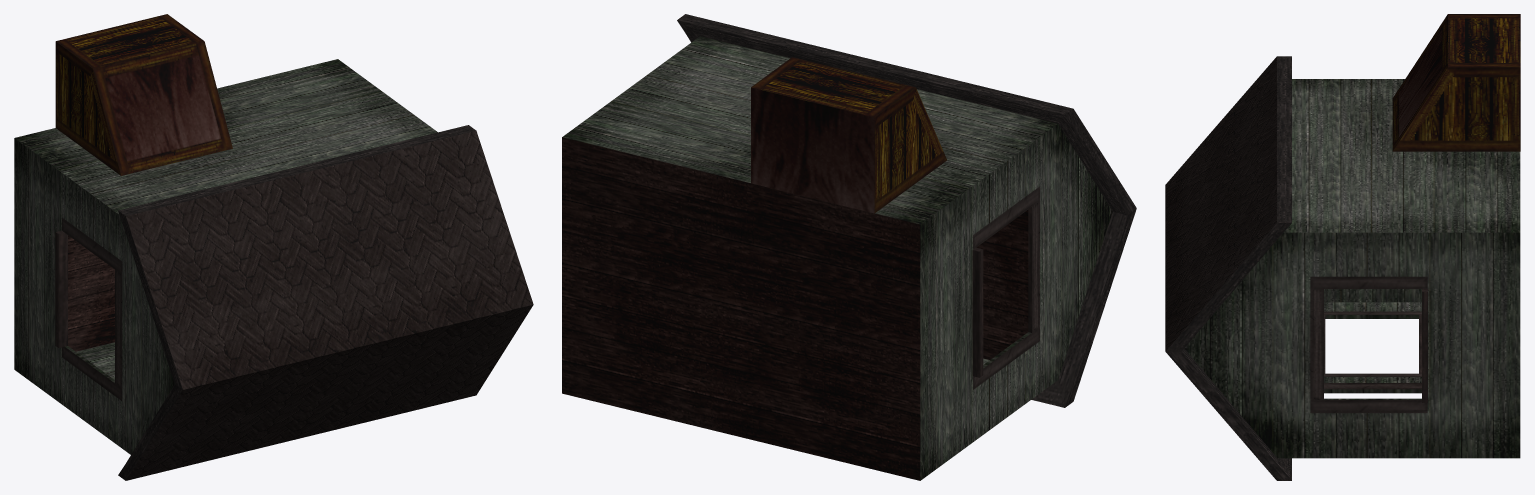
The model's file is toolshedgeneral_wtf.obj.
3 renders of one model, left to right at view 1: azimuth 30°, elevation 25°; view 2: azimuth 150°, elevation 25°; view 3: azimuth 270°, elevation 25°, orthographic. The views are drawn at different scales.
Parts seen in each view (by area): view 1: group2; view 2: group2; view 3: group2.
Boxes of the visible parts, left/top/right/bottom form: group2: left=14, top=14, right=533, bottom=480; group2: left=562, top=14, right=1136, bottom=480; group2: left=1165, top=14, right=1520, bottom=480.
Size of the model in its own units: 660 by 602 by 594.
